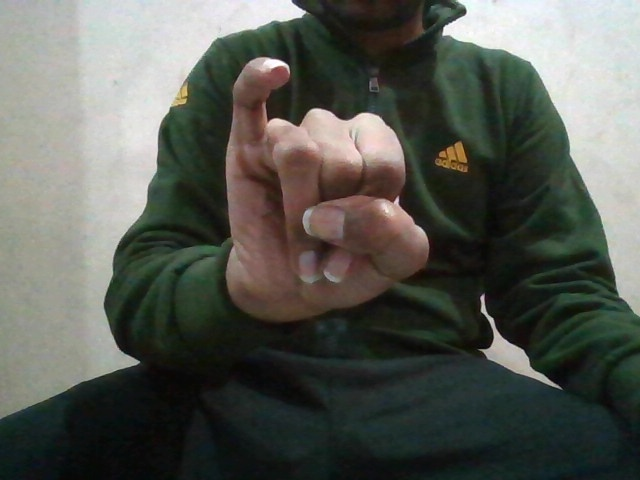J: (218, 50, 429, 316)
